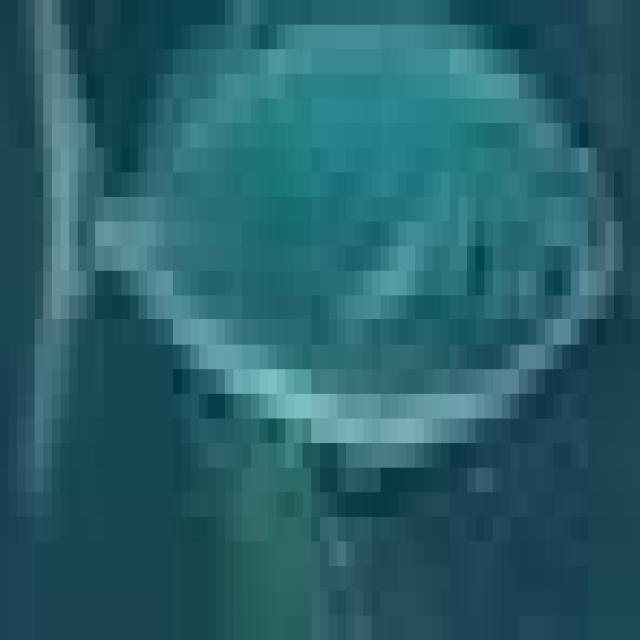fish: (0, 0, 632, 616)
